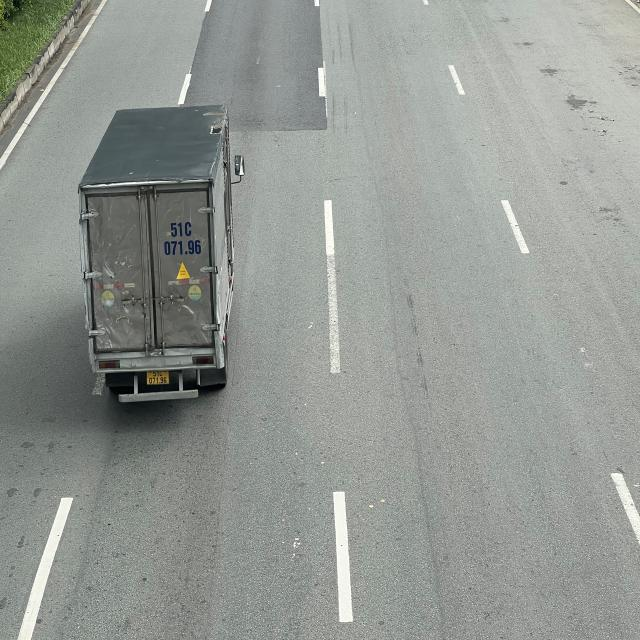truck: (73, 104, 245, 405)
